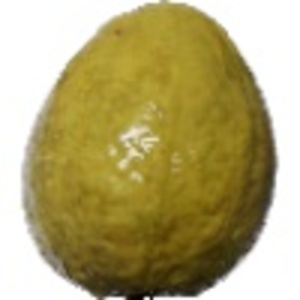goiaba: (10, 2, 293, 294)
